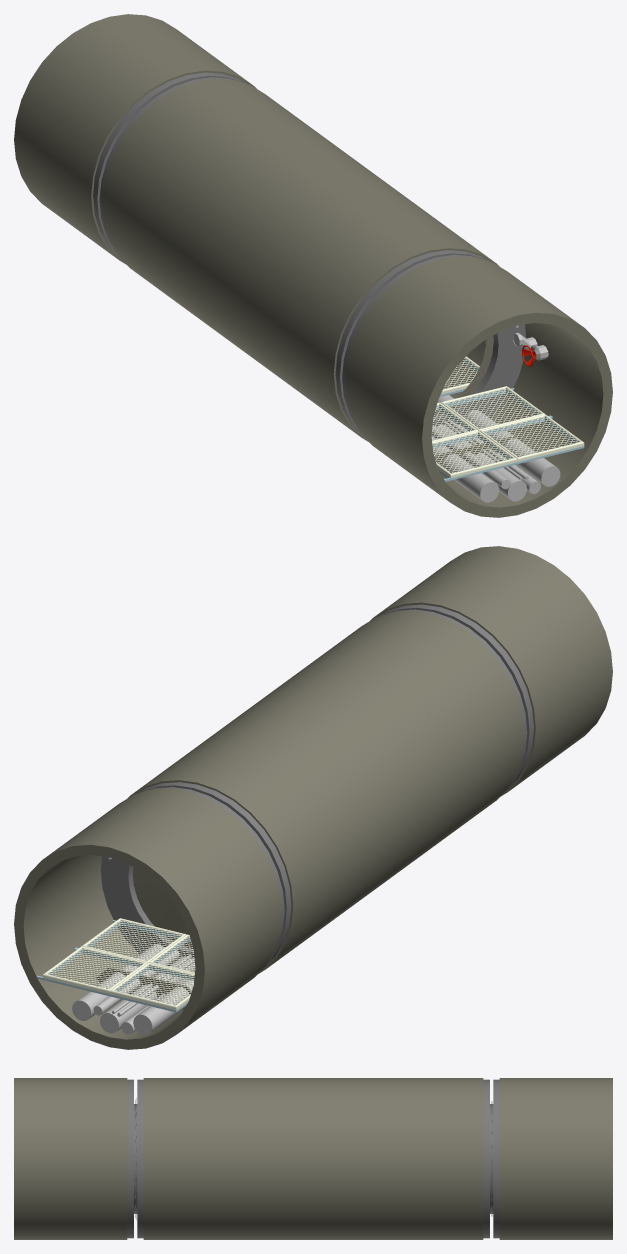
Rendered from airlock.glb.
3 views of the same model, one above another, from view 1: azimuth 30°, elevation 25°; view 2: azimuth 150°, elevation 25°; view 3: azimuth 270°, elevation 25° (orthographic). The views are drawn at different scales.
Parts seen in each view (by area): view 1: Cylinder.037, Cylinder.038, Cylinder.033, Cylinder.029, Cylinder.036, Cylinder.035, Cylinder.034; view 2: Cylinder.033, Cylinder.037, Cylinder.029, Cylinder.038, Cylinder.036, Cylinder.034, Cylinder.035; view 3: Cylinder.029, Cylinder.033, Cylinder.037, Cylinder.038, Cylinder.036, Cylinder.034, Cylinder.035.
Boxes of the visible parts, x1,y1,x2,y2 form: Cylinder.037: [345, 256, 612, 517]; Cylinder.038: [256, 191, 499, 441]; Cylinder.033: [14, 14, 256, 264]; Cylinder.029: [102, 78, 340, 323]; Cylinder.036: [179, 135, 417, 380]; Cylinder.035: [335, 250, 526, 436]; Cylinder.034: [93, 72, 246, 258]; Cylinder.033: [14, 788, 281, 1049]; Cylinder.037: [370, 546, 612, 796]; Cylinder.029: [127, 723, 370, 973]; Cylinder.038: [286, 610, 524, 855]; Cylinder.036: [209, 667, 447, 912]; Cylinder.034: [100, 782, 291, 968]; Cylinder.035: [380, 604, 533, 790]; Cylinder.029: [370, 1078, 483, 1239]; Cylinder.033: [499, 1078, 612, 1239]; Cylinder.037: [14, 1078, 127, 1239]; Cylinder.038: [143, 1078, 256, 1239]; Cylinder.036: [257, 1078, 370, 1239]; Cylinder.034: [483, 1079, 499, 1238]; Cylinder.035: [127, 1079, 143, 1238].
Bounding box in the file's own units: 10 × 10 × 37.01.
